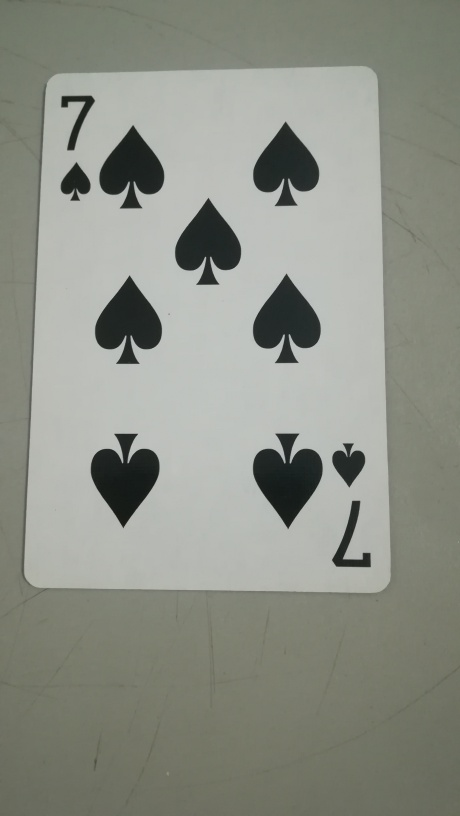ht 7: (22, 62, 398, 597)
